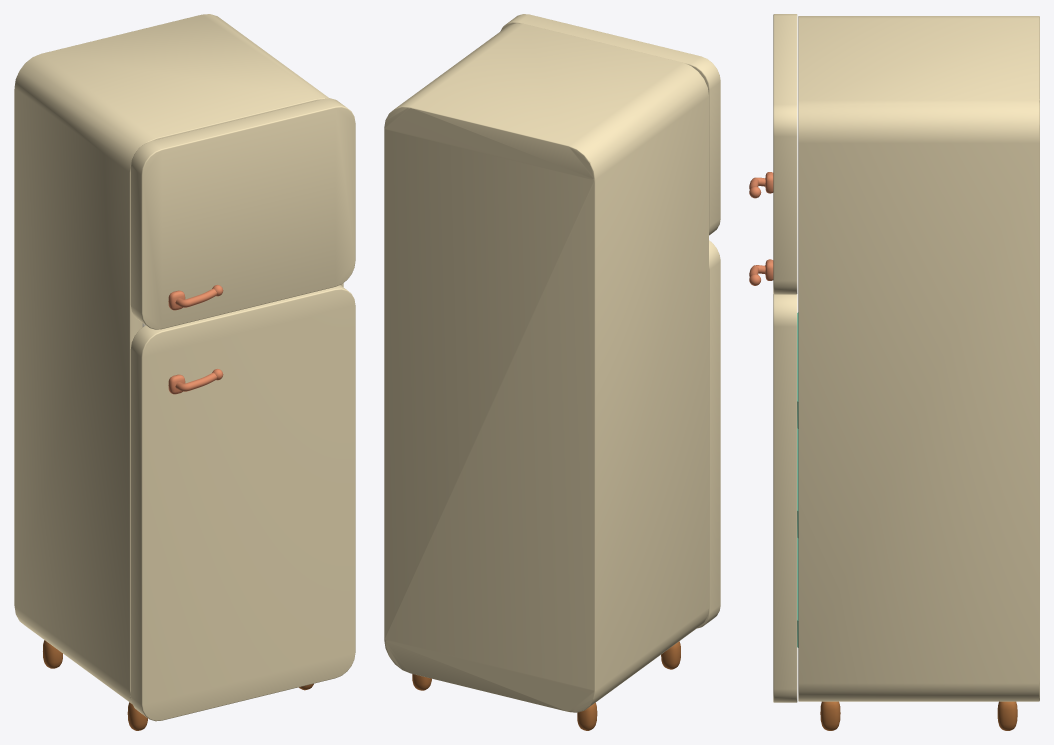
Rendered from geladeira_retro_pes_creme.glb.
3 renders of one model, left to right at view 1: azimuth 30°, elevation 25°; view 2: azimuth 150°, elevation 25°; view 3: azimuth 270°, elevation 25°, orthographic. The views are drawn at different scales.
Parts seen in each view (by area): view 1: geladeira_retro_pes_creme, porta_geladeira, porta_congelador; view 2: geladeira_retro_pes_creme, porta_geladeira, porta_congelador; view 3: geladeira_retro_pes_creme, porta_geladeira, porta_congelador.
Boxes of the visible parts, x1,y1,x2,y2 form: geladeira_retro_pes_creme: (14,14,343,730); porta_geladeira: (130,285,355,721); porta_congelador: (130,98,355,329); geladeira_retro_pes_creme: (384,23,708,730); porta_geladeira: (697,240,720,628); porta_congelador: (500,14,720,235); geladeira_retro_pes_creme: (798,16,1039,730); porta_geladeira: (749,259,798,702); porta_congelador: (749,14,797,294).
Size of the model in its own units: 0.64 by 1.72 by 0.722.
2 materials, 1 textured.
